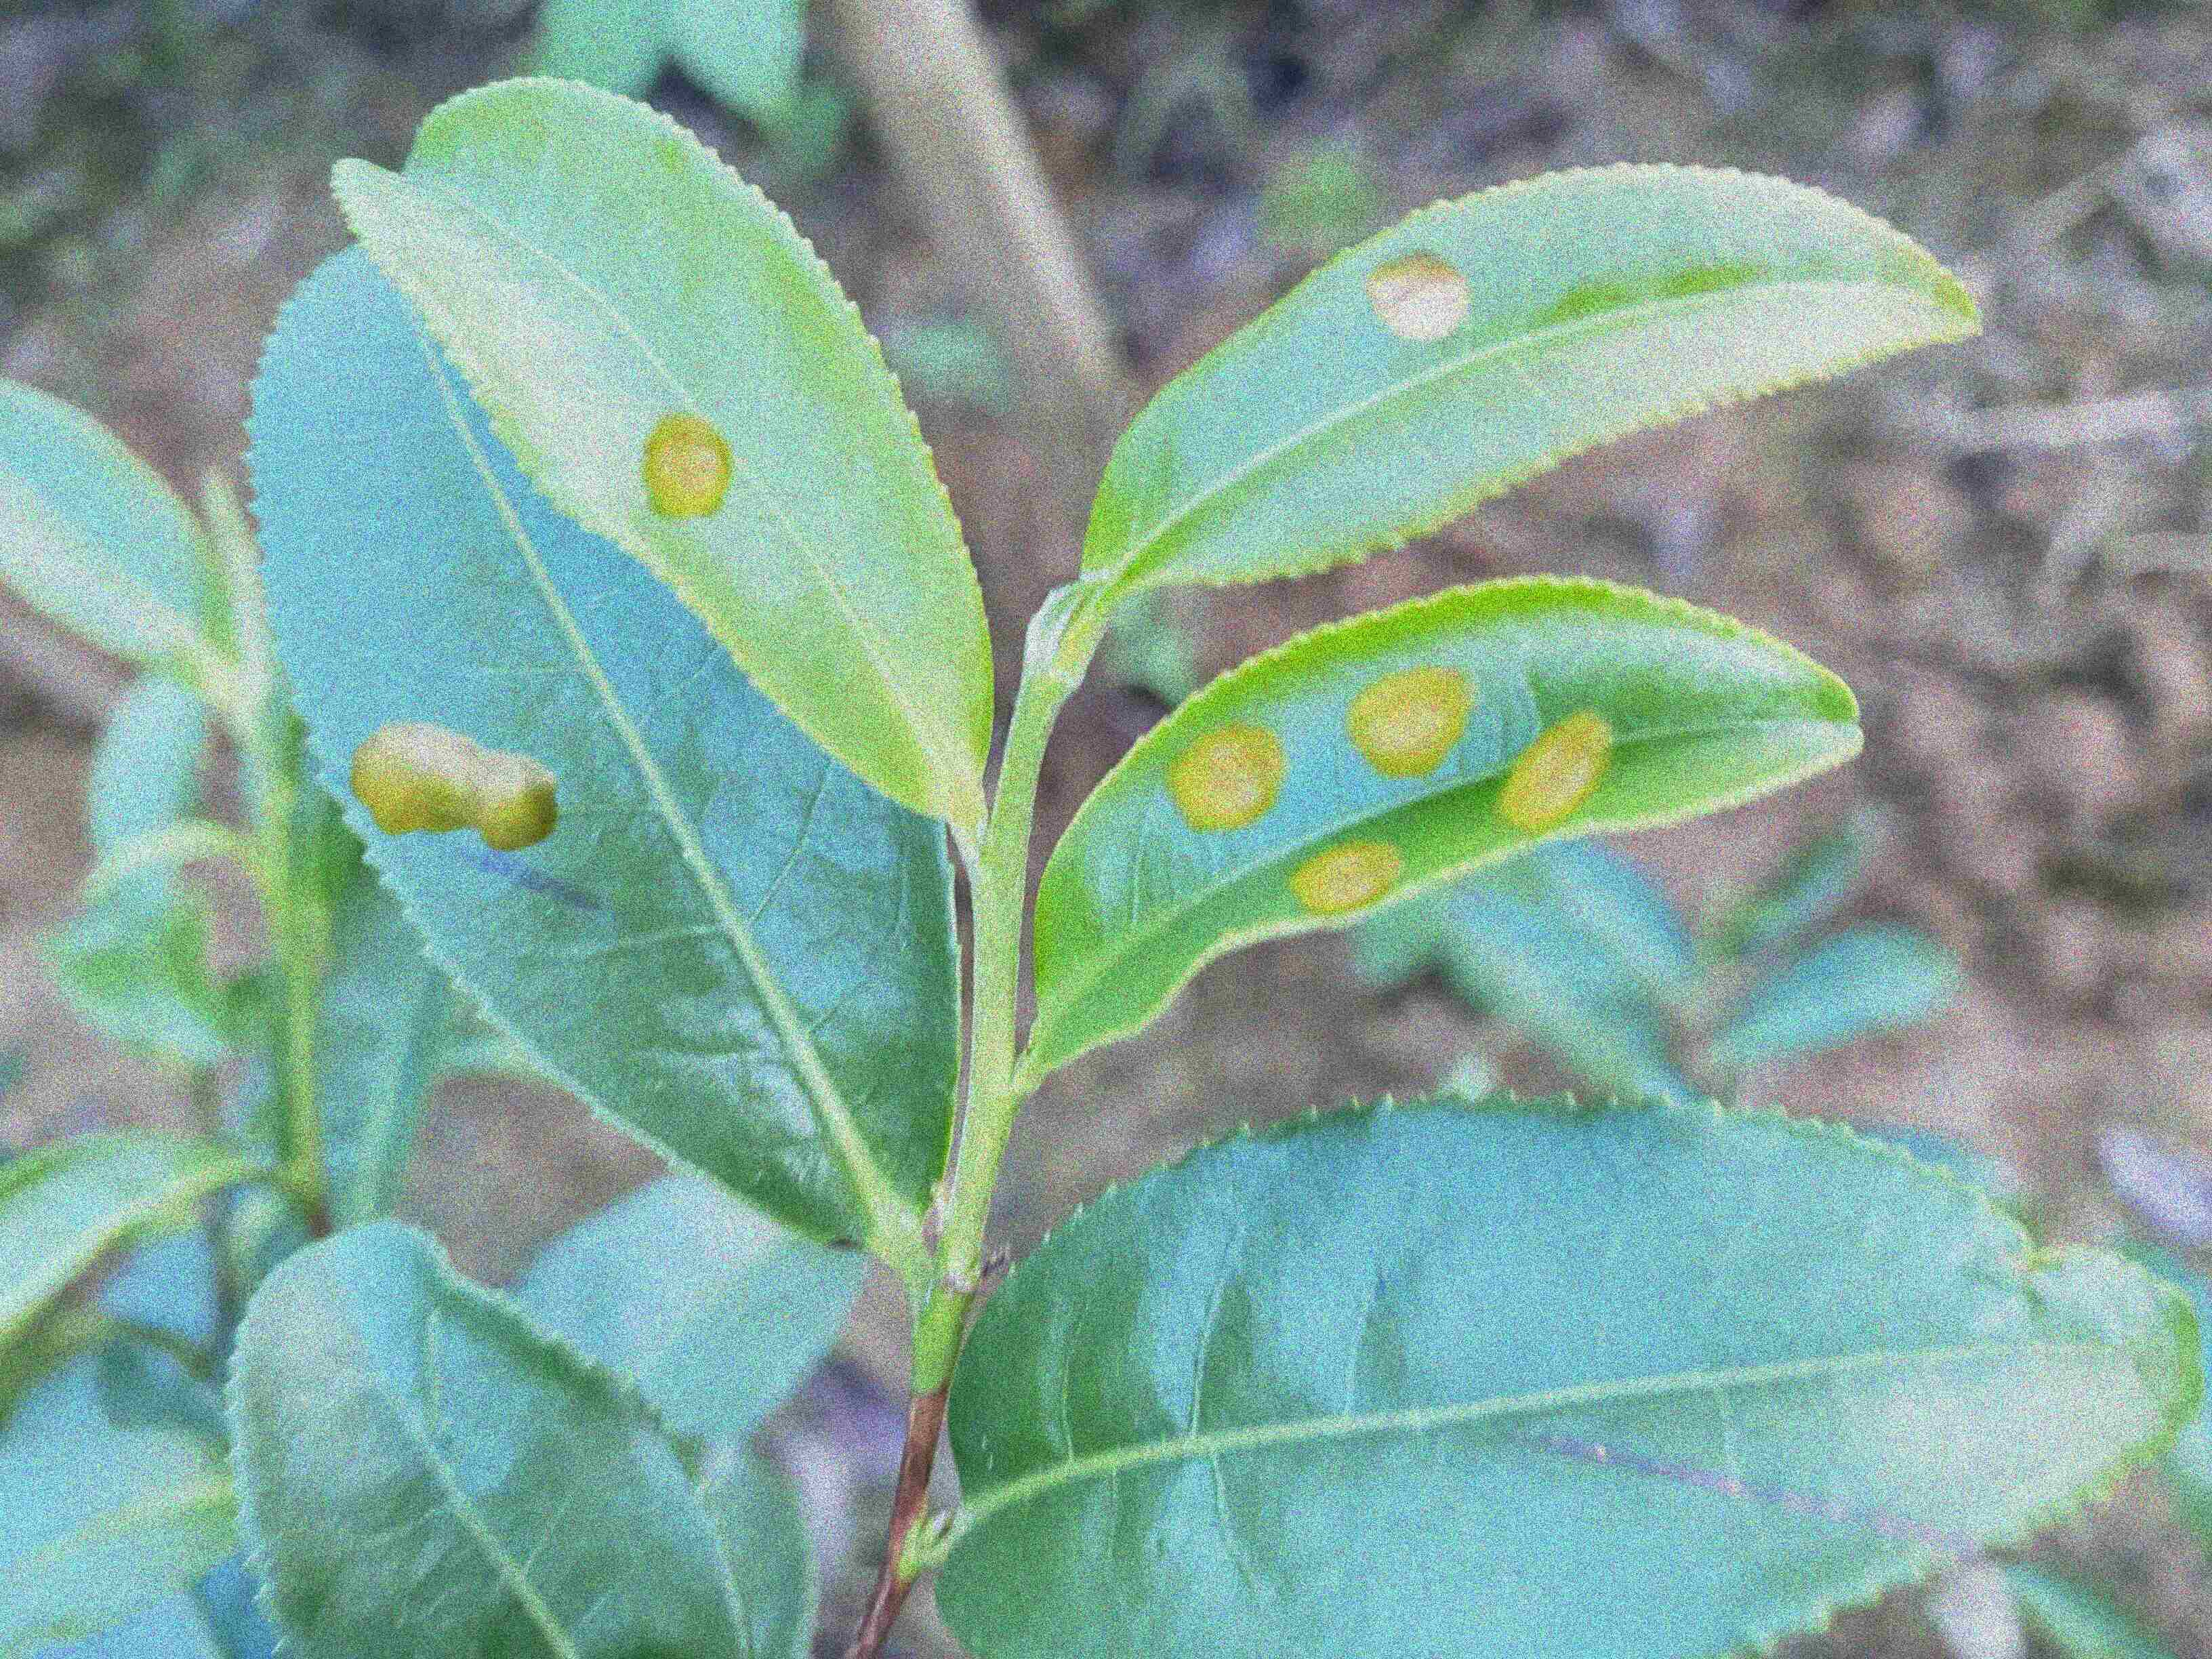chabing_high: (1031, 573, 1926, 1063)
chabing_low: (239, 239, 963, 1251), (334, 80, 1000, 817), (1078, 162, 1982, 589)
healthy: (941, 1087, 2203, 1654), (221, 1220, 754, 1659)
